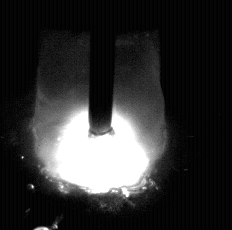arame: (89, 0, 114, 137)
poca: (34, 0, 168, 230)
